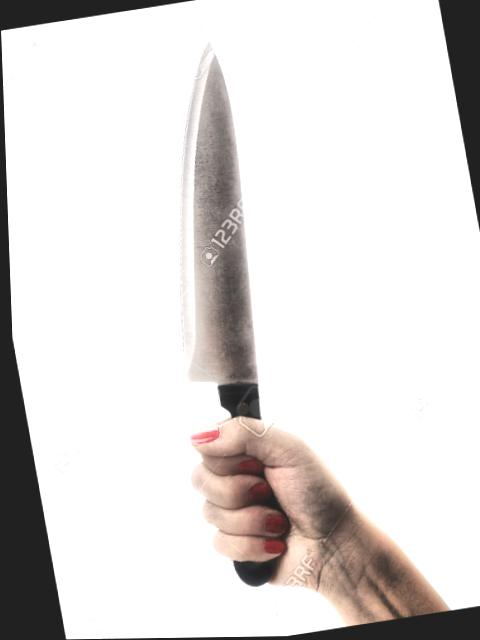knife: (97, 21, 312, 569)
